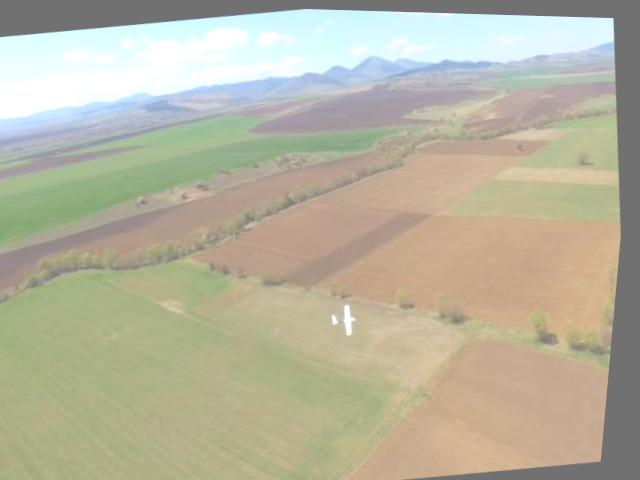uav: (329, 293, 369, 342)
